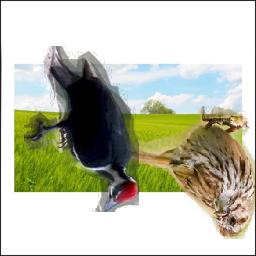Sparrow: (123, 107, 256, 240)
Woodpecker: (25, 46, 140, 212)
